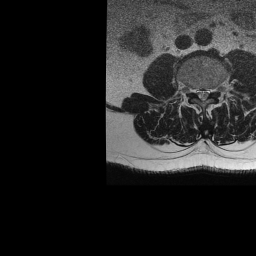CCS_stenosis: (200, 82, 206, 107)
LFS_normal: (211, 80, 217, 98)
LLS_stenosis: (206, 81, 212, 102)
RFS_normal: (189, 80, 195, 99)
RLS_stenosis: (195, 81, 200, 101)
